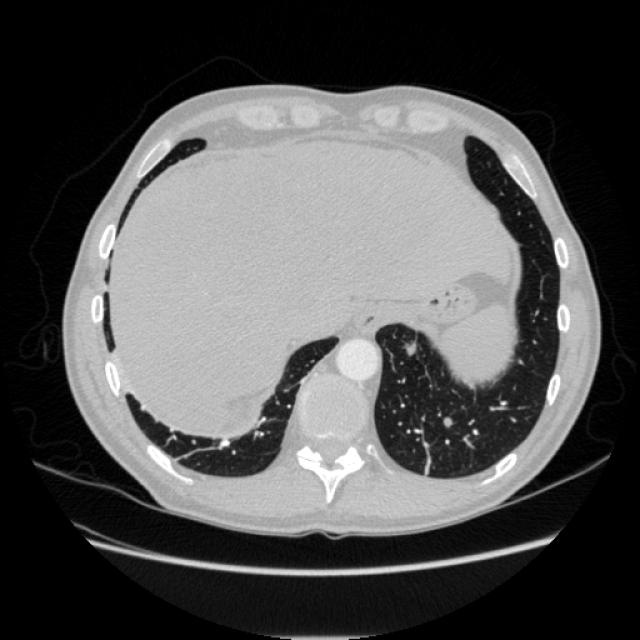nodule: (434, 408, 458, 434)
